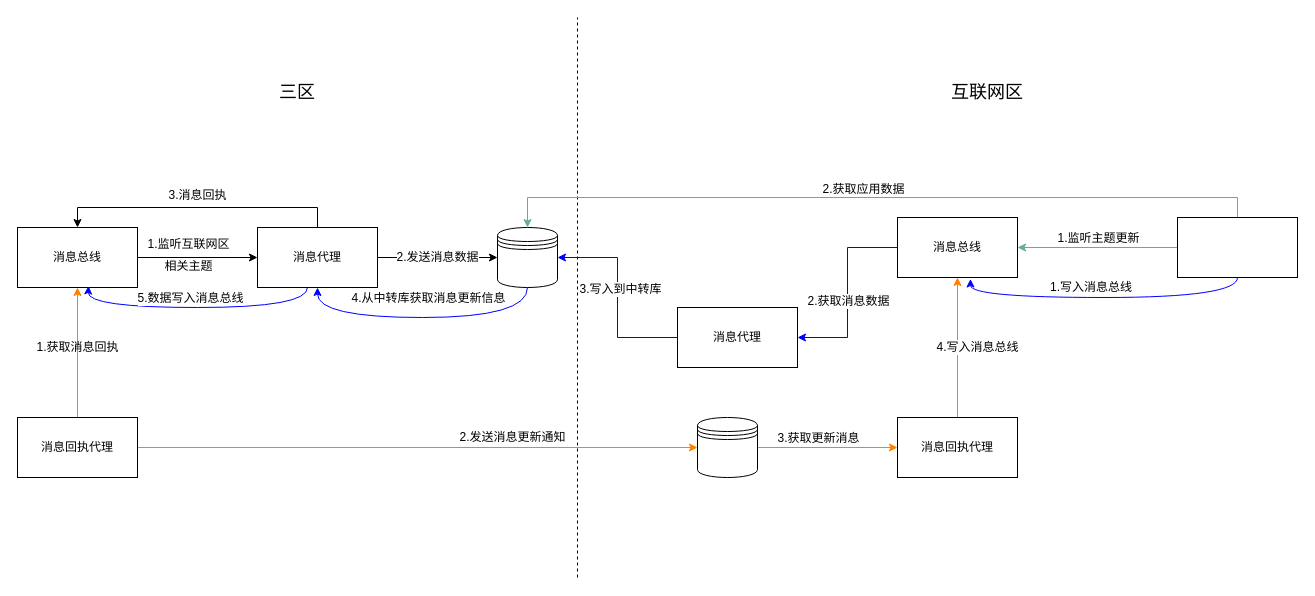
This 1315x596 diagram has some shape labels left out. The centre of each missing label's shape, as x and y in pixels:
中转库 DB: point (527, 257)
应用: point (1237, 247)
消息库 DB: point (727, 447)
